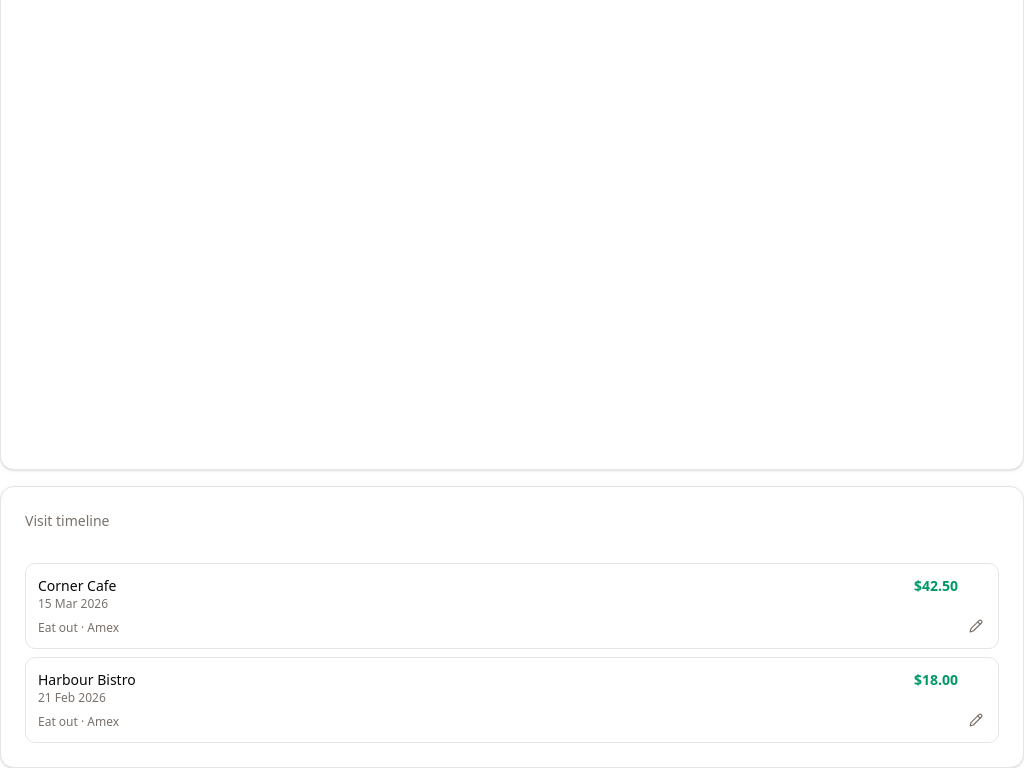
Test case: RelationshipMapPage › adding and editing › shows the saved place as a chip, and Change goes back to search
(page scrolled)
Click the button named "edit corner cafe". click: [976, 626]
box: [954,604,998,648]
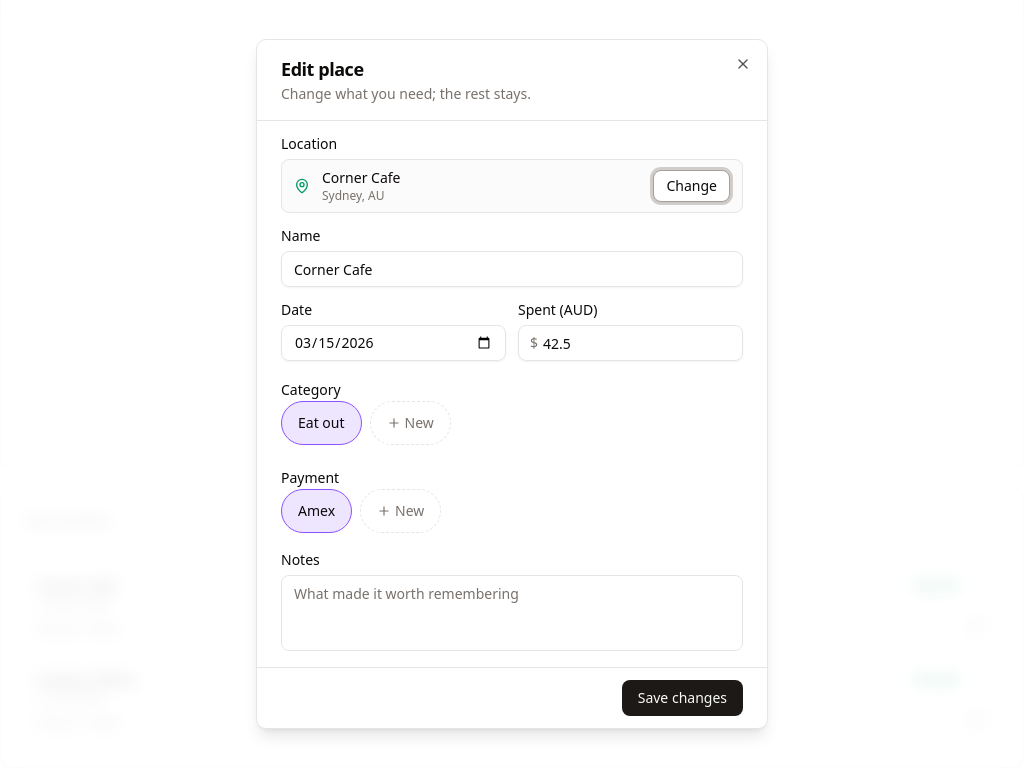
Expected: the text "Sydney, AU" is shown, [322,187,384,204]
Click the button with aria-label "Change place". click: [692, 186]
box: [654,170,730,202]
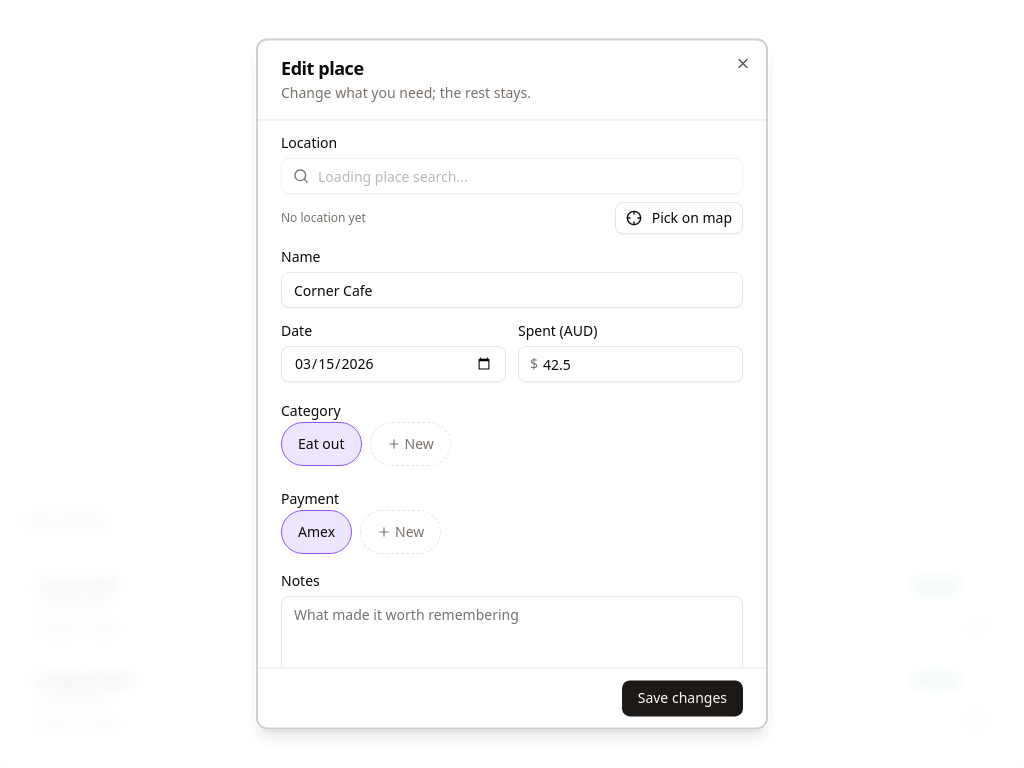
Expected: the field labelled "Name" holds "Corner Cafe", [281,272,743,308]
Expected: the field named "Search for a place" is shown, [281,158,743,194]
Expected: the text "No location yet" is shown, [281,210,366,226]
